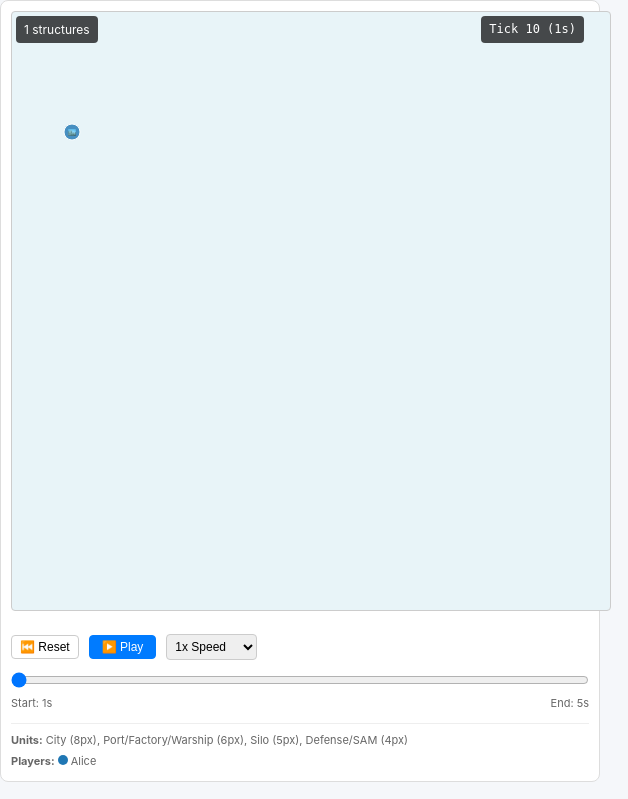
Test: MapOverTime › updates visible events when slider moves
Check: the text "1 structures" is shown, box [16,16,98,43]
Note: Move slider to show more events
Set the slider to "50" at (581, 680), box [11,672,589,688]
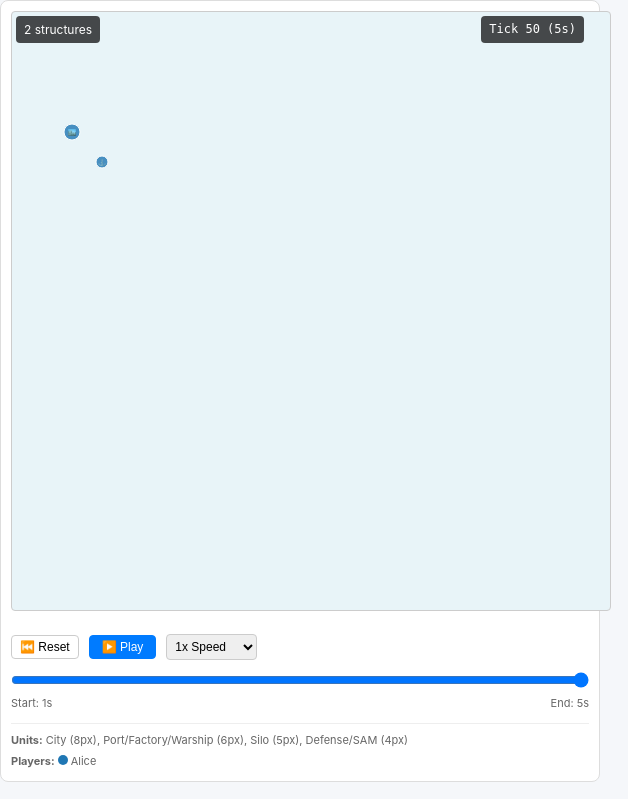
Check: the text "2 structures" is shown, box [16,16,100,43]
